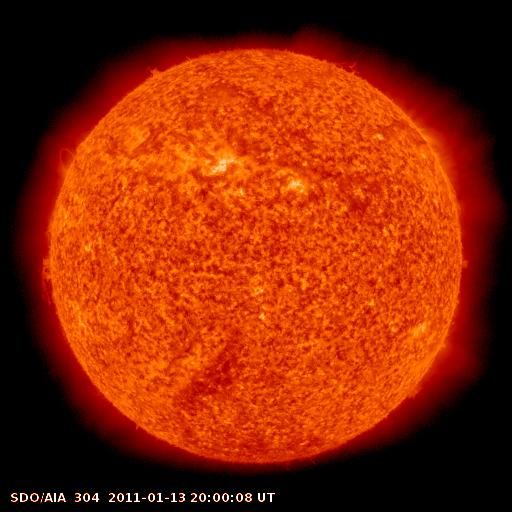prominence: (394, 331, 486, 410), (26, 238, 69, 319), (321, 45, 374, 91), (48, 134, 94, 181), (135, 50, 172, 85)
